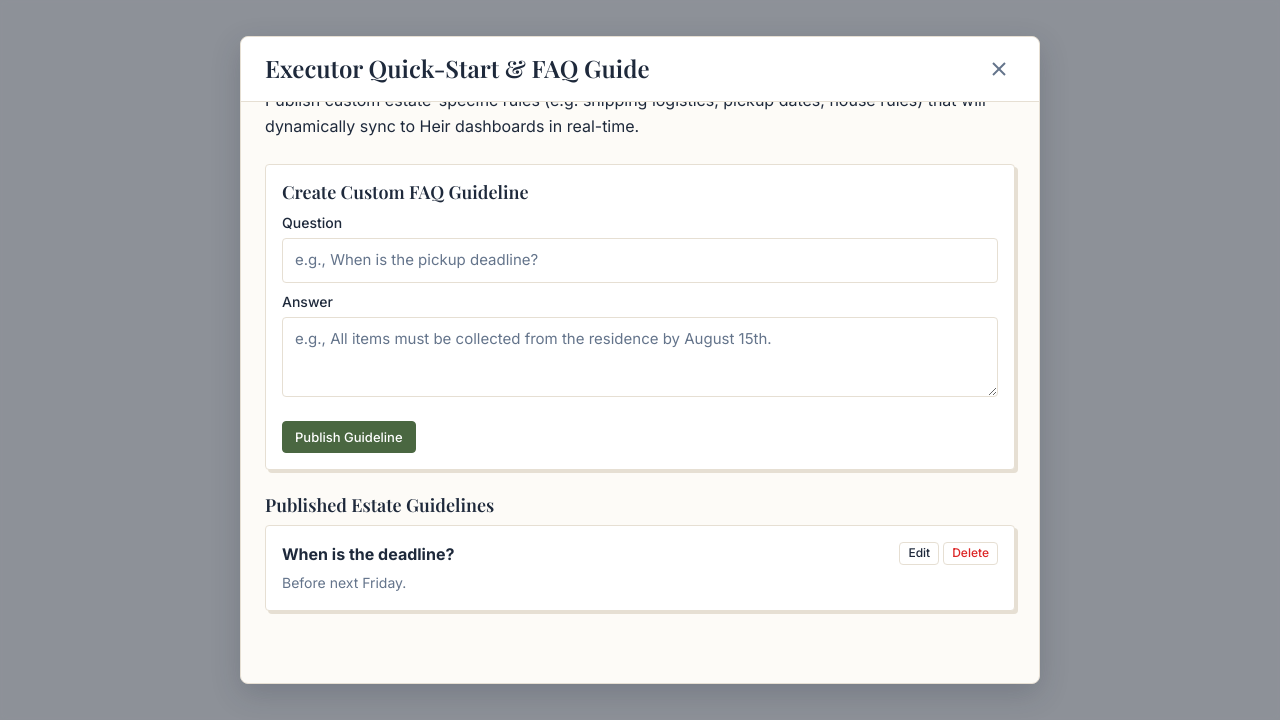
Test: AdminHelpPortal Component › allows deleting a custom FAQ
This screenshot has width=1280, height=720.
(page scrolled)
Expected: the element with test id "faq-item-f1" is shown, x1=265 y1=526 x2=1015 y2=612
# Click Delete button
Click the button "Delete": {"x": 971, "y": 554} x1=943 y1=542 x2=998 y2=565
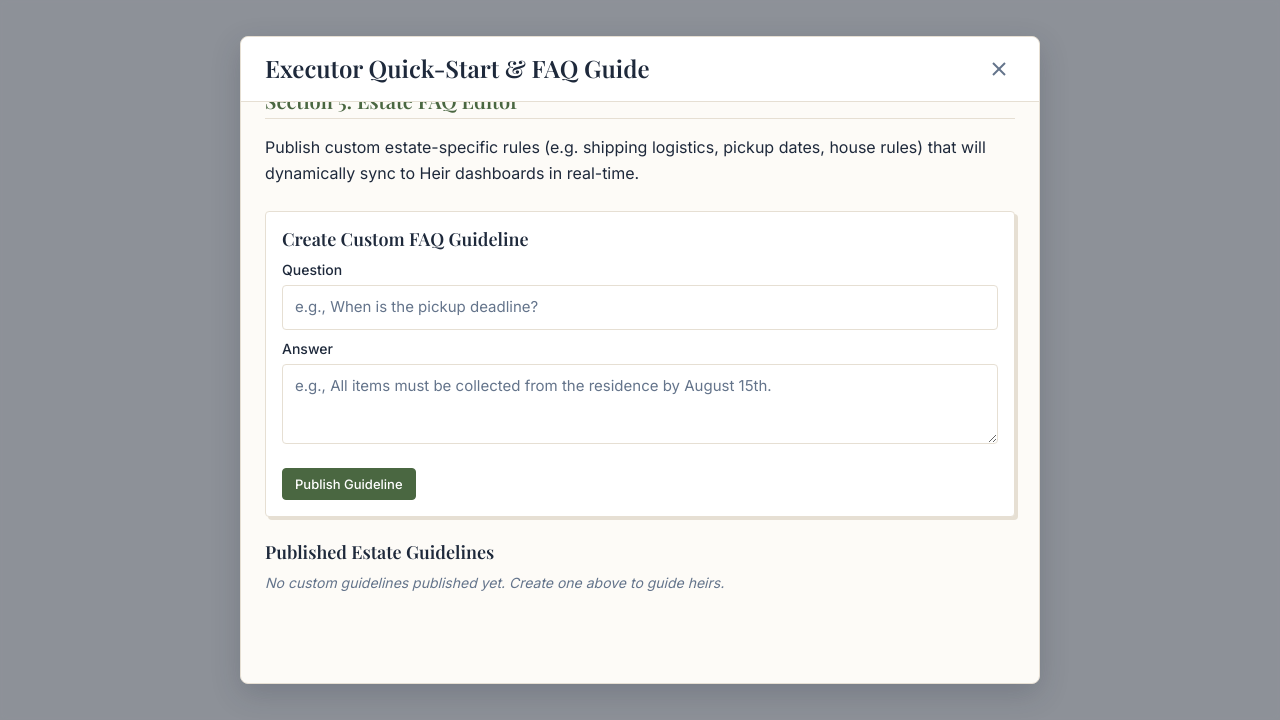
Now the text "No custom guidelines published yet" is shown, box x1=265 y1=574 x2=724 y2=592
